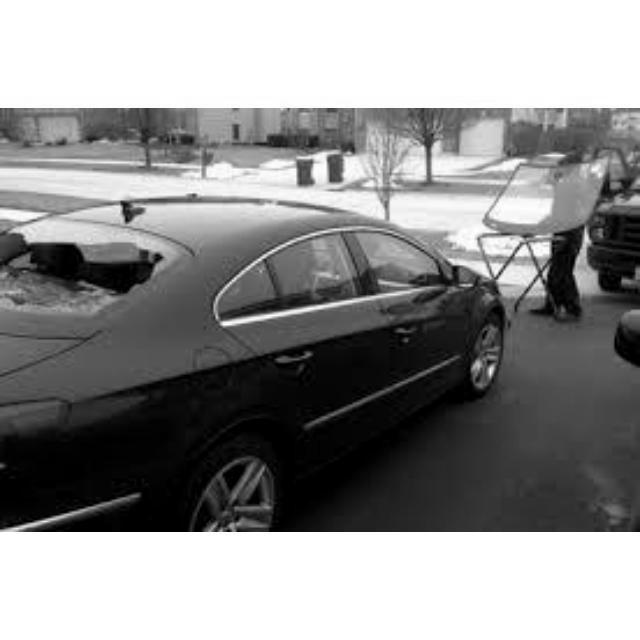Rear-windscreen-Damage: (0, 219, 180, 323)
